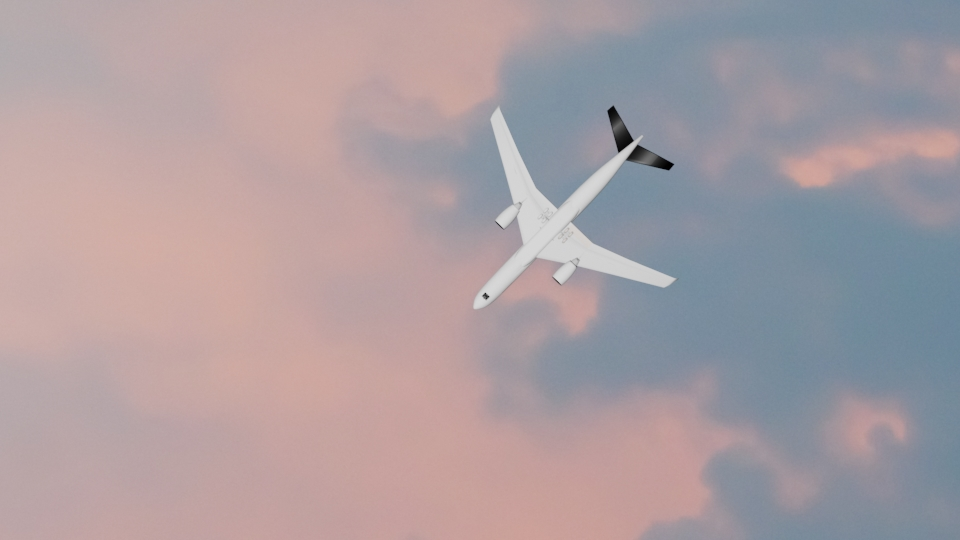plane: (473, 102, 678, 312)
